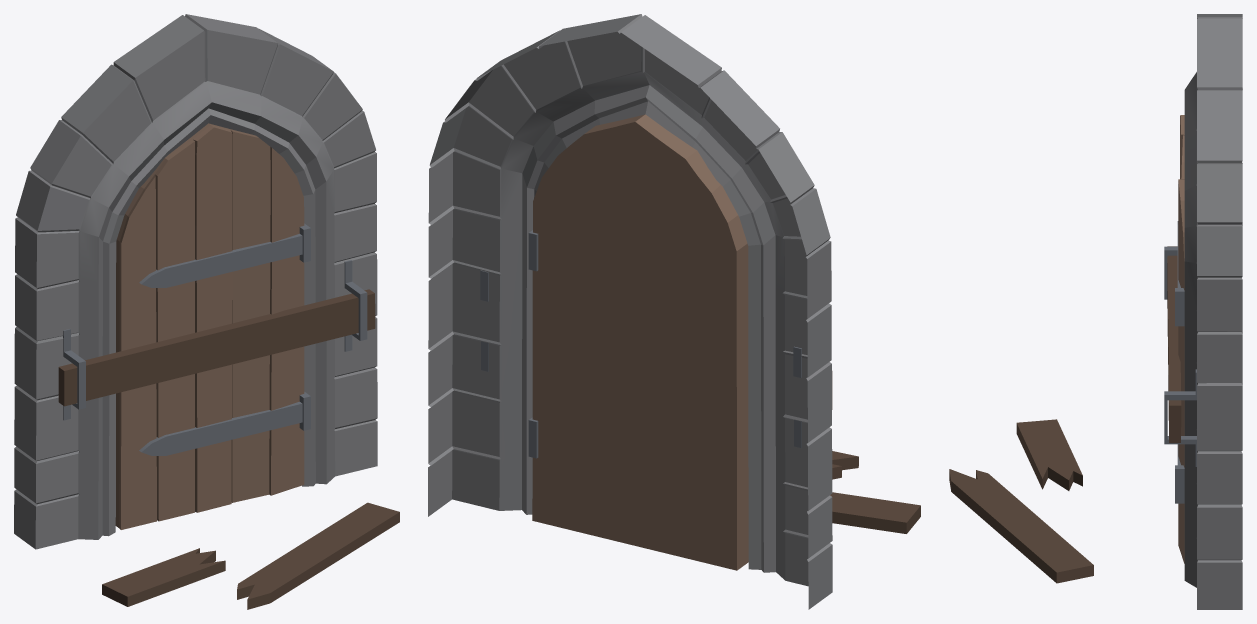
The model's file is Door.fbx.
3 views of the same model, side by side, from view 1: azimuth 30°, elevation 25°; view 2: azimuth 150°, elevation 25°; view 3: azimuth 270°, elevation 25° (orthographic). The views are drawn at different scales.
Parts seen in each view (by area): view 1: doorFrame, woodenDoor, woodenBeam, broken_woodenBeamPiece_02, broken_woodenBeamPiece_01; view 2: doorFrame, woodenDoor, broken_woodenBeamPiece_01; view 3: doorFrame, broken_woodenBeamPiece_02, broken_woodenBeamPiece_01, woodenDoor, woodenBeam.
Boxes of the visible parts, left/top/right/bottom form: doorFrame: left=14, top=14, right=377, bottom=549; woodenDoor: left=115, top=123, right=310, bottom=529; woodenBeam: left=58, top=289, right=375, bottom=406; broken_woodenBeamPiece_02: left=237, top=502, right=399, bottom=609; broken_woodenBeamPiece_01: left=102, top=548, right=225, bottom=606; doorFrame: left=428, top=14, right=832, bottom=609; woodenDoor: left=528, top=114, right=748, bottom=570; broken_woodenBeamPiece_01: left=830, top=492, right=920, bottom=533; doorFrame: left=1164, top=14, right=1242, bottom=609; broken_woodenBeamPiece_02: left=949, top=469, right=1093, bottom=583; broken_woodenBeamPiece_01: left=1016, top=419, right=1082, bottom=490; woodenDoor: left=1175, top=115, right=1184, bottom=563; woodenBeam: left=1167, top=246, right=1181, bottom=442.
Size of the model in its own units: 251 by 335 by 177.
